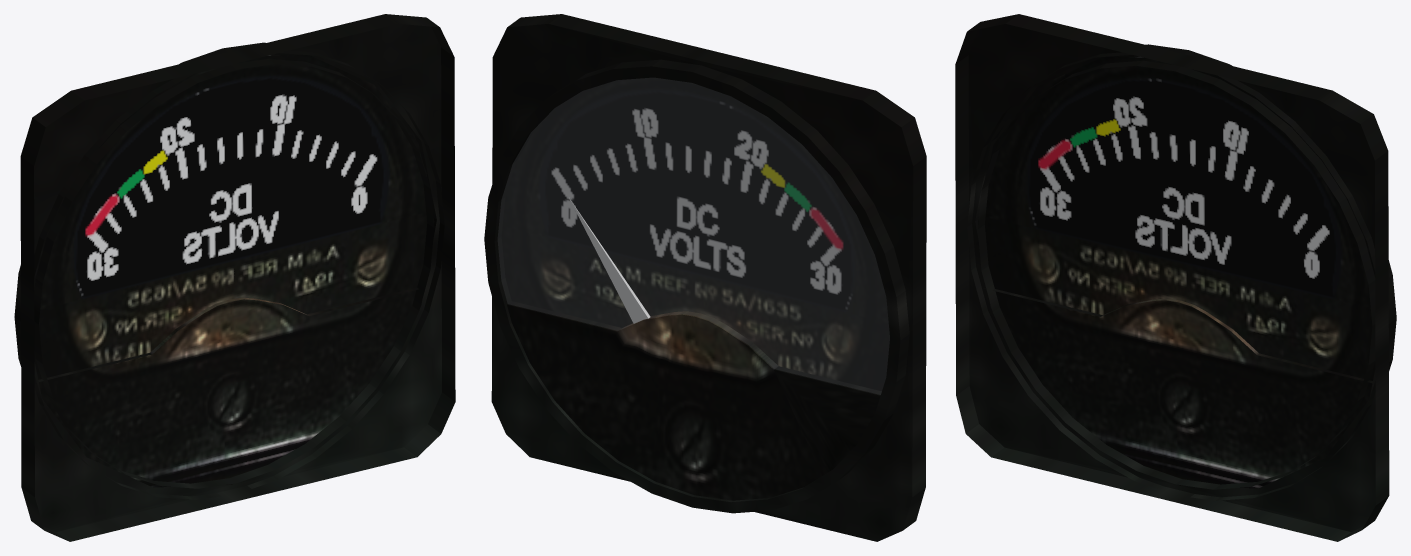
File: voltmeter.obj
The picture shows the model from 3 angles, left to right: view 1: azimuth 30°, elevation 25°; view 2: azimuth 150°, elevation 25°; view 3: azimuth 330°, elevation 25°; orthographic projection.
Visible parts, largest first — view 1: face, bezel, cover; view 2: vitre, face, bezel, cover, needle; view 3: face, bezel, cover.
Boxes of the visible parts, x1,y1,x2,y2 form: face: [34, 54, 434, 487]; bezel: [14, 14, 455, 541]; cover: [37, 287, 418, 382]; vitre: [498, 78, 889, 394]; face: [501, 77, 889, 391]; bezel: [484, 14, 926, 541]; cover: [507, 301, 881, 500]; needle: [568, 196, 650, 323]; face: [978, 56, 1375, 488]; bezel: [955, 14, 1396, 541]; cover: [984, 288, 1372, 383].
Size of the model in its own units: 0.0504 by 0.0502 by 0.00475.
Materials: 2 (1 with a texture image).
